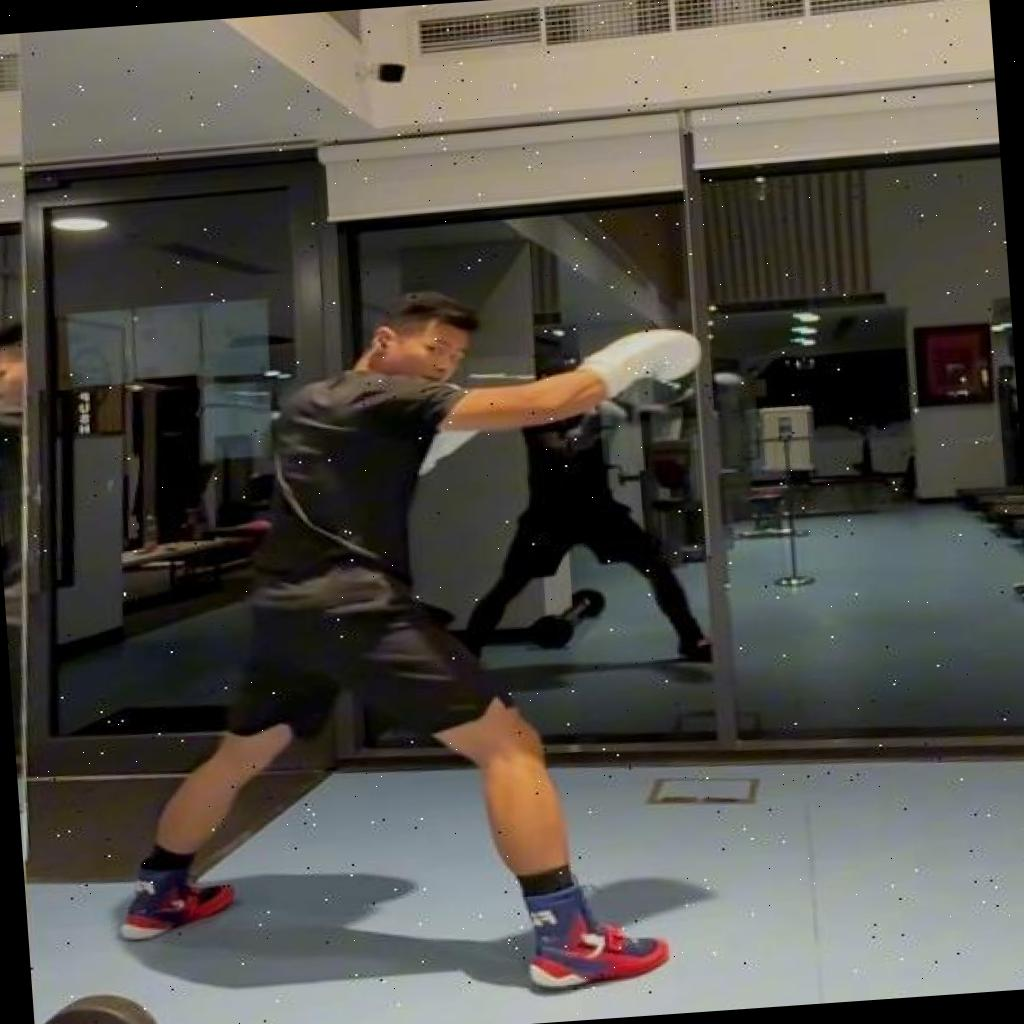jab: (77, 271, 752, 1024)
